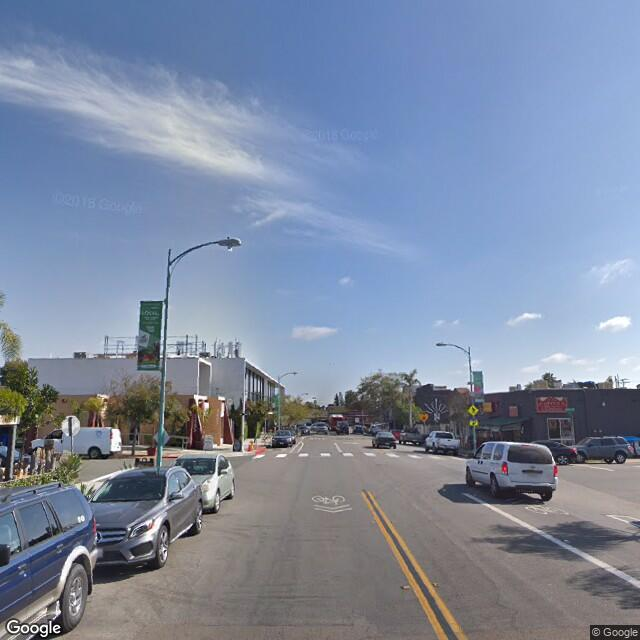light: (216, 235, 242, 248)
road line: (367, 490, 448, 607)
